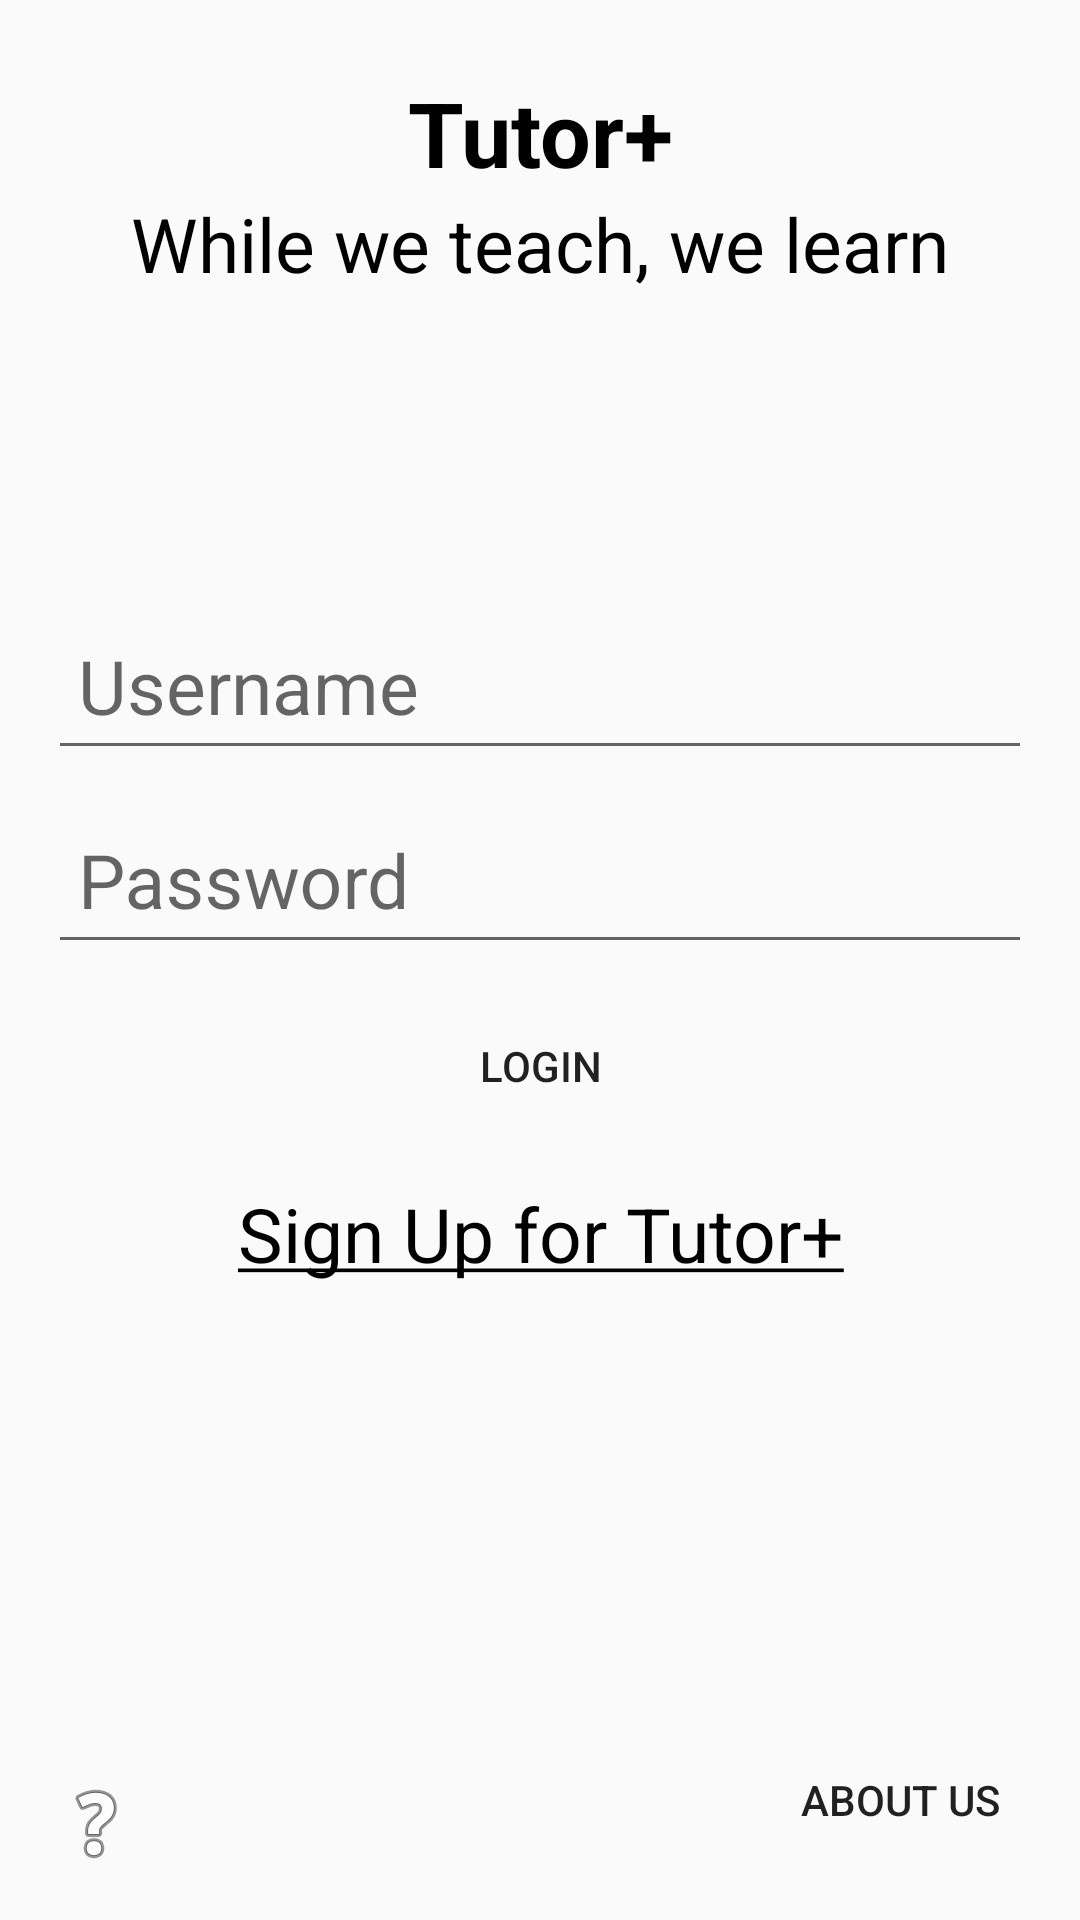

Point at icon controls on the screen. Image size 1080 x 1920, points as [x,y].
help: [96,1824]
